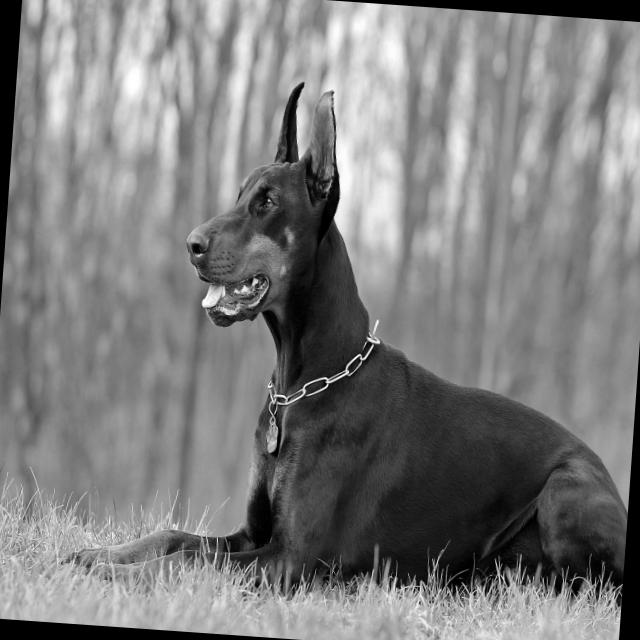laying down: (57, 63, 640, 621)
